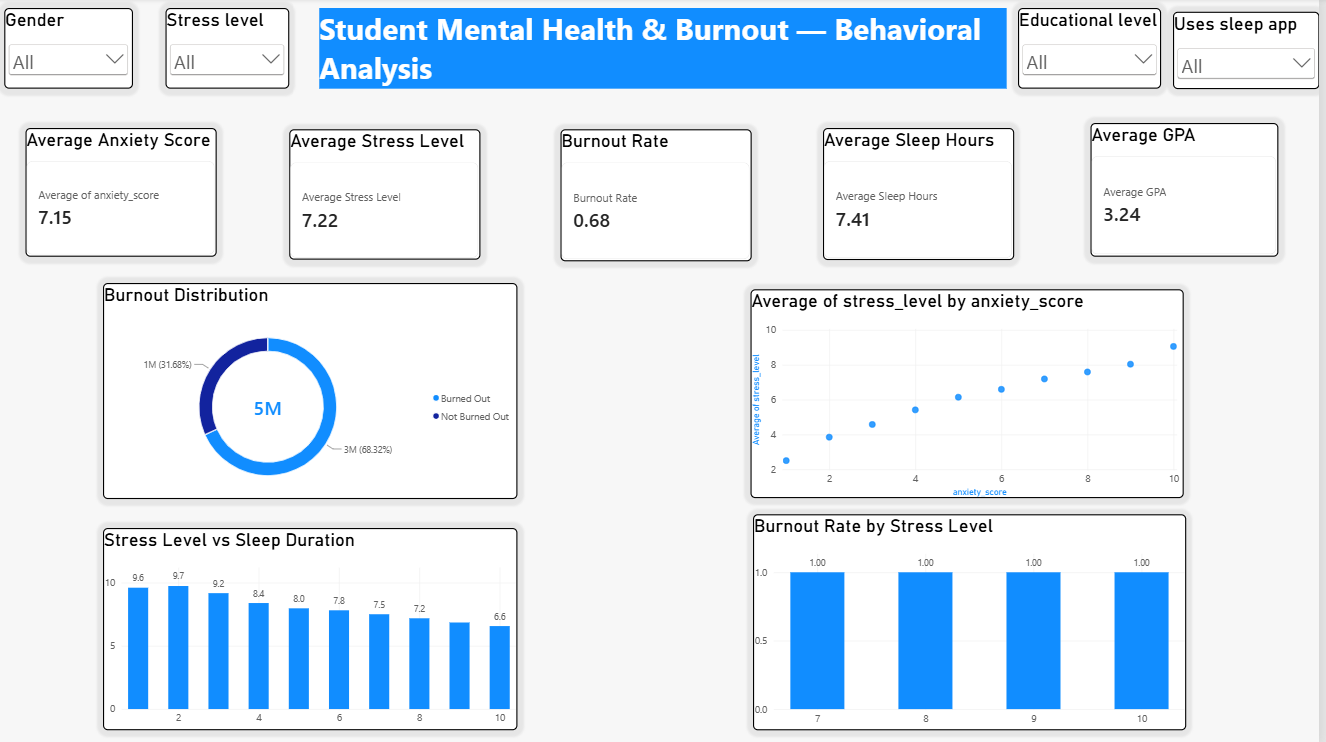

This screenshot's page, from the dashboard's own definition file:
{"tool":"powerbi","page":{"name":"Behavioral Analysis","canvas":[1920,1080],"ordinal":2},"visuals":[{"type":"textbox","box":[472.4,14.3,994.9,116.9],"z":0},{"type":"slicer","title":"Gender","fields":{"Values":["student_sleep.gender","student_sleep.education_level"]},"box":[16.7,14.3,186.1,116.9],"z":1000},{"type":"slicer","title":"Stress level","fields":{"Values":["student_sleep.stress_level","student_sleep.uses_sleep_app"]},"box":[250.5,14.3,178.9,116.9],"z":2000},{"type":"slicer","title":"Educational level","fields":{"Values":["student_sleep.education_level"]},"box":[1484,14.3,207.6,116.9],"z":3000},{"type":"slicer","title":"Uses sleep app","fields":{"Values":["student_sleep.uses_sleep_app"]},"box":[1708.3,19.1,212.3,112.1],"z":4000},{"type":"cardVisual","title":"Average Sleep Hours","fields":{"Data":["measure.Average Sleep Hours"]},"box":[1202.5,188.5,276.8,190.9],"z":5000},{"type":"cardVisual","title":"Burnout Rate","fields":{"Data":["measure.Burnout Rate"]},"box":[820.8,190.9,276.8,190.9],"z":6000},{"type":"cardVisual","title":"Average Stress Level","fields":{"Data":["measure.Average Stress Level"]},"box":[429.5,190.9,276.8,188.5],"z":7000},{"type":"cardVisual","title":"Average Anxiety Score","fields":{"Data":["Avg(student_sleep.anxiety_score)"]},"box":[47.7,188.5,276.8,186.1],"z":8000},{"type":"cardVisual","title":"Average GPA","fields":{"Data":["measure.Average GPA"]},"box":[1589,181.3,272,193.3],"z":9000},{"type":"donutChart","title":"Burnout Distribution","fields":{"Y":["Sum(student_sleep.student_id)"],"Category":["student_sleep.Burnout Status"]},"box":[160,412.5,600,312.5],"z":10000},{"type":"scatterChart","fields":{"X":["student_sleep.anxiety_score"],"Y":["Avg(student_sleep.stress_level)"]},"box":[1097.5,422.5,627.5,302.5],"z":11000},{"type":"clusteredColumnChart","title":"Stress Level vs Sleep Duration","fields":{"Category":["student_sleep.stress_level"],"Y":["Avg(student_sleep.avg_sleep_hours)"]},"box":[160,767.5,600,292.5],"z":12000},{"type":"clusteredColumnChart","title":"Burnout Rate by Stress Level","fields":{"Category":["student_sleep.stress_level"],"Y":["measure.Burnout Rate by Stress"]},"box":[1100,747.5,627.5,312.5],"z":13000}]}

Visuals, with their boxes in screenshot pixels (x1, y1, x2, y2), scaled from the page's 1920x1080 canvas onto the 1326x742 screenshot:
textbox: BBox(326, 10, 1013, 90)
"Gender" slicer: BBox(12, 10, 140, 90)
"Stress level" slicer: BBox(173, 10, 297, 90)
"Educational level" slicer: BBox(1025, 10, 1168, 90)
"Uses sleep app" slicer: BBox(1180, 13, 1325, 90)
"Average Sleep Hours" cardVisual: BBox(830, 130, 1022, 261)
"Burnout Rate" cardVisual: BBox(567, 131, 758, 262)
"Average Stress Level" cardVisual: BBox(297, 131, 488, 261)
"Average Anxiety Score" cardVisual: BBox(33, 130, 224, 257)
"Average GPA" cardVisual: BBox(1097, 125, 1285, 257)
"Burnout Distribution" donutChart: BBox(110, 283, 525, 498)
scatterChart - student_sleep.anxiety_score x Avg(student_sleep.stress_level): BBox(758, 290, 1191, 498)
"Stress Level vs Sleep Duration" clusteredColumnChart: BBox(110, 527, 525, 728)
"Burnout Rate by Stress Level" clusteredColumnChart: BBox(760, 514, 1193, 728)
